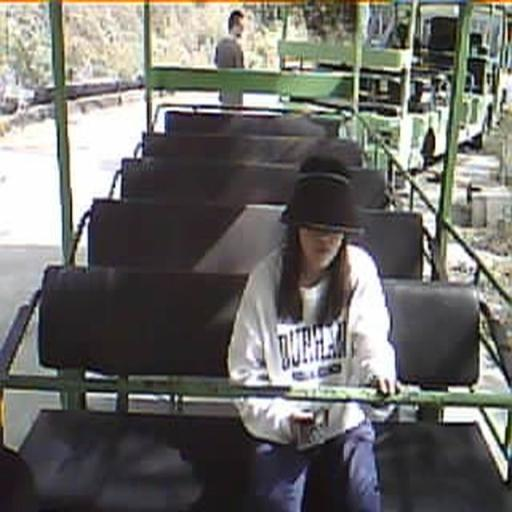persona: (226, 162, 400, 510)
